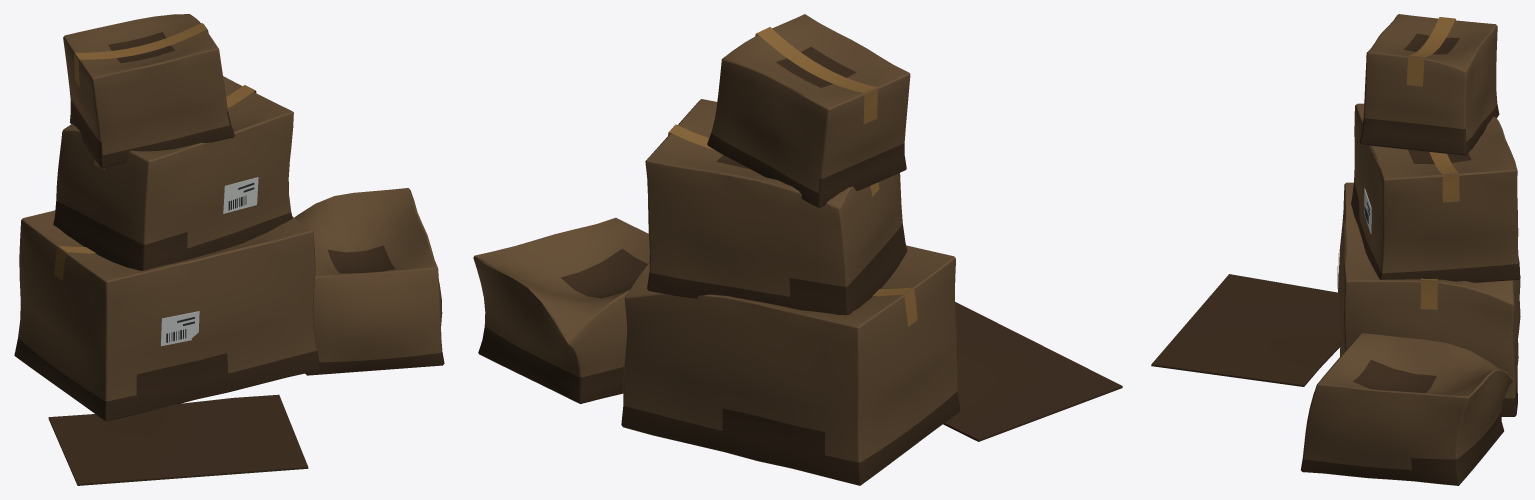
Rendered from Cardboard_Box_Stack.fbx.
3 views of the same model, side by side, from view 1: azimuth 30°, elevation 25°; view 2: azimuth 150°, elevation 25°; view 3: azimuth 270°, elevation 25° (orthographic). The views are drawn at different scales.
Parts seen in each view (by area): view 1: Cardboard_Box_Stack_LOD0; view 2: Cardboard_Box_Stack_LOD0; view 3: Cardboard_Box_Stack_LOD0.
Part boxes in pixels (<box>): Cardboard_Box_Stack_LOD0: <box>14,14,444,485</box>; Cardboard_Box_Stack_LOD0: <box>473,14,1122,485</box>; Cardboard_Box_Stack_LOD0: <box>1151,14,1520,485</box>.
Size of what is drawn, in the model's own units: 1.57 by 1.12 by 1.14.
